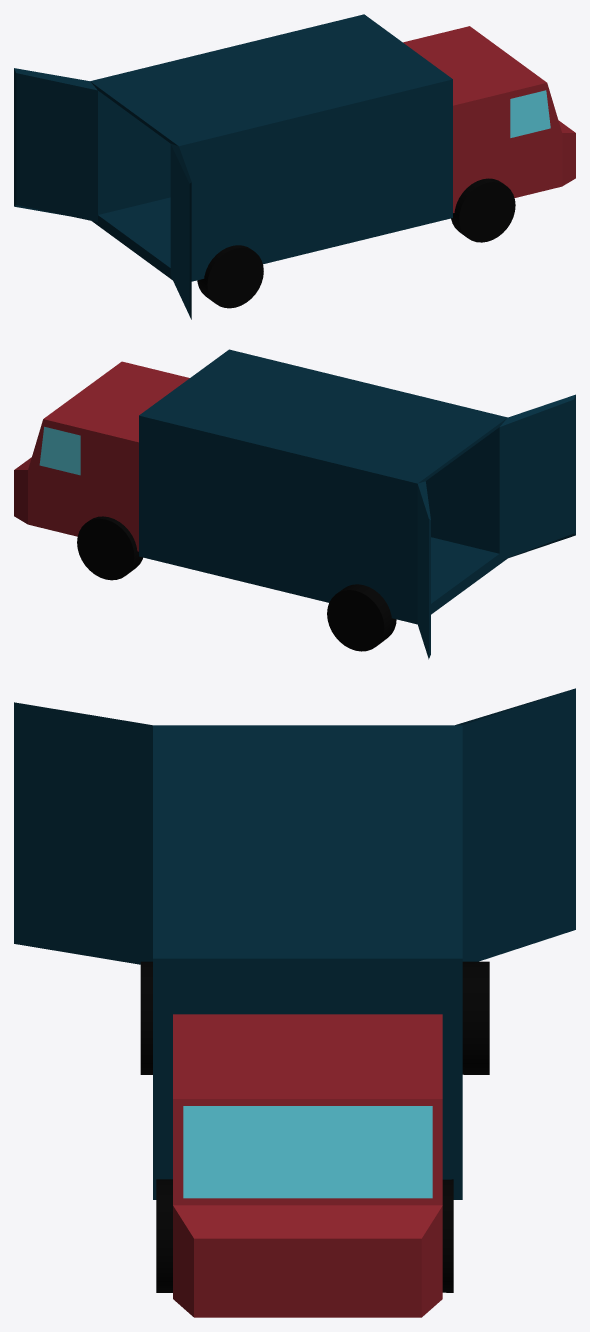
Rendered from Camion.fbx.
The picture shows the model from 3 angles, top to bottom: view 1: azimuth 30°, elevation 25°; view 2: azimuth 150°, elevation 25°; view 3: azimuth 270°, elevation 25°; orthographic projection. The views are drawn at different scales.
Parts seen in each view (by area): view 1: Cube, Cube.001, Cylinder, Cylinder.001; view 2: Cube, Cube.001, Cylinder.001, Cylinder; view 3: Cube, Cube.001, Cylinder.001, Cylinder.
Boxes of the visible parts, x1,y1,x2,y2 form: Cube: (14,14,452,319); Cube.001: (403,26,575,212); Cylinder: (451,178,515,242); Cylinder.001: (197,245,263,308); Cube: (139,349,575,659); Cube.001: (14,361,189,551); Cylinder.001: (327,584,396,651); Cylinder: (77,516,142,580); Cube: (14,688,575,1199); Cube.001: (173,1014,442,1317); Cylinder.001: (140,961,489,1074); Cylinder: (156,1179,453,1292).
Size of the model in its own units: 986 by 358 by 609.
